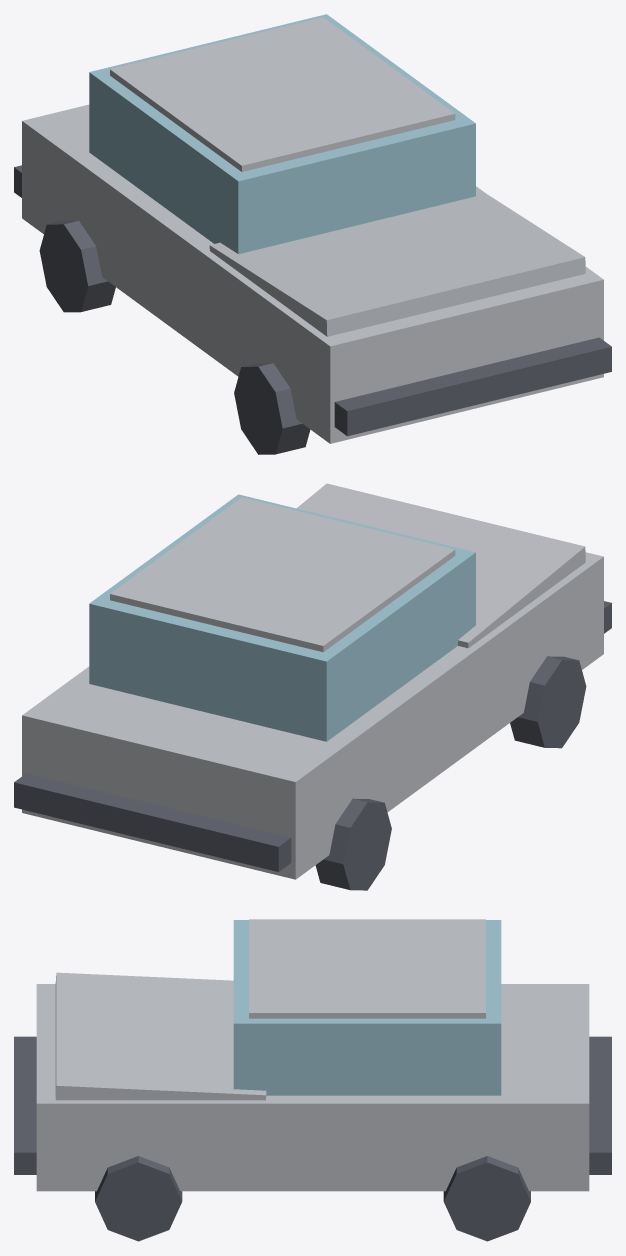
3 renders of one model, top to bottom at view 1: azimuth 30°, elevation 25°; view 2: azimuth 150°, elevation 25°; view 3: azimuth 270°, elevation 25°, orthographic. The views are drawn at different scales.
Parts seen in each view (by area): view 1: Body, Cabin, Roof, Hood, Bumper.F, Wheel.3, Wheel.1; view 2: Body, Cabin, Roof, Hood, Bumper.B, Wheel.1, Wheel.3; view 3: Body, Cabin, Roof, Hood, Wheel.2, Wheel.4, Bumper.F, Bumper.B.
Boxes of the visible parts, <box> form: Body: <box>22,104,603,443</box>; Cabin: <box>89,14,475,254</box>; Roof: <box>110,17,455,171</box>; Hood: <box>209,187,585,336</box>; Bumper.F: <box>334,337,611,436</box>; Wheel.3: <box>39,220,115,312</box>; Wheel.1: <box>234,363,310,454</box>; Body: <box>22,552,603,879</box>; Cabin: <box>89,494,475,741</box>; Roof: <box>110,497,455,652</box>; Hood: <box>296,483,585,648</box>; Bumper.B: <box>14,773,291,871</box>; Wheel.1: <box>510,656,586,748</box>; Wheel.3: <box>315,798,391,890</box>; Body: <box>36,984,589,1191</box>; Cabin: <box>233,920,501,1095</box>; Roof: <box>249,919,485,1018</box>; Hood: <box>55,972,266,1100</box>; Wheel.2: <box>95,1156,182,1241</box>; Wheel.4: <box>443,1156,530,1241</box>; Bumper.F: <box>14,1036,36,1174</box>; Bumper.B: <box>589,1036,611,1174</box>.
Bounding box in the file's own units: 2.02 × 1.48 × 3.84.
